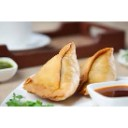samosa: (16, 41, 76, 99), (83, 43, 115, 91)
